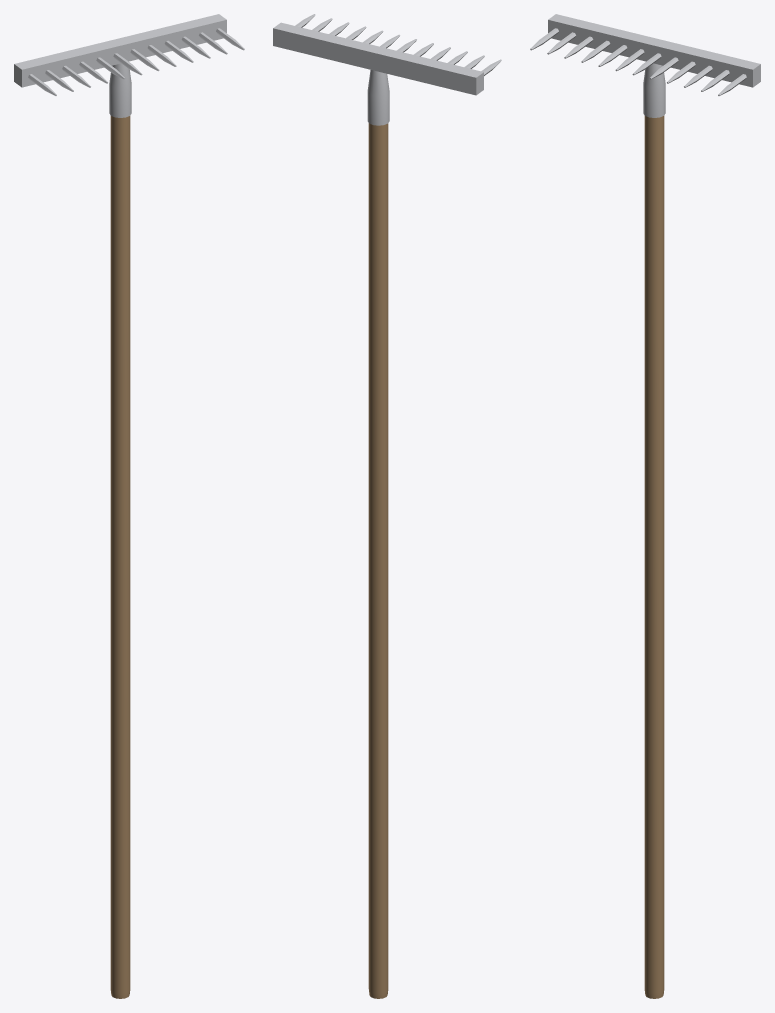
File: rake.glb
3 renders of one model, left to right at view 1: azimuth 30°, elevation 25°; view 2: azimuth 150°, elevation 25°; view 3: azimuth 330°, elevation 25°, orthographic.
Visible parts, largest first — view 1: OUT; view 2: OUT; view 3: OUT.
Part boxes in pixels (<box>): OUT: <box>14,14,244,998</box>; OUT: <box>273,14,501,998</box>; OUT: <box>530,14,760,998</box>.
Bounding box in the file's own units: 0.36 × 1.6 × 0.107.
